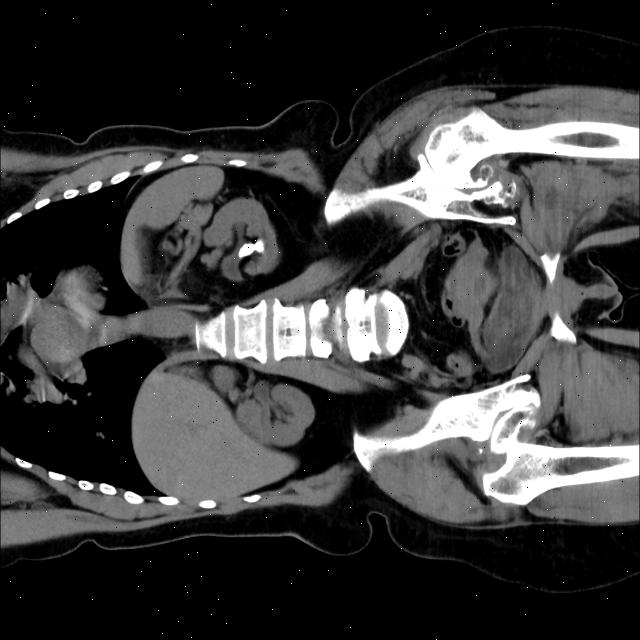kidneystone: (239, 237, 265, 258)
